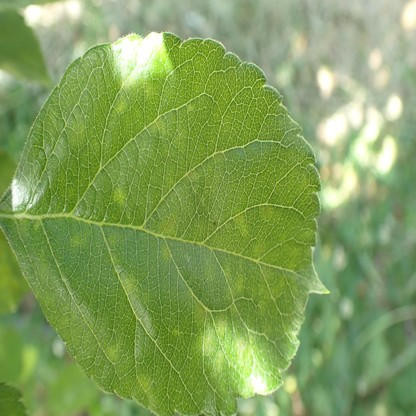scab: (16, 89, 313, 408)
